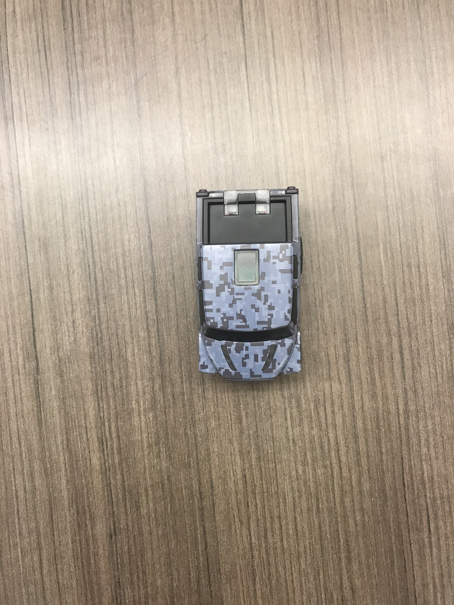MXT: (193, 185, 306, 385)
